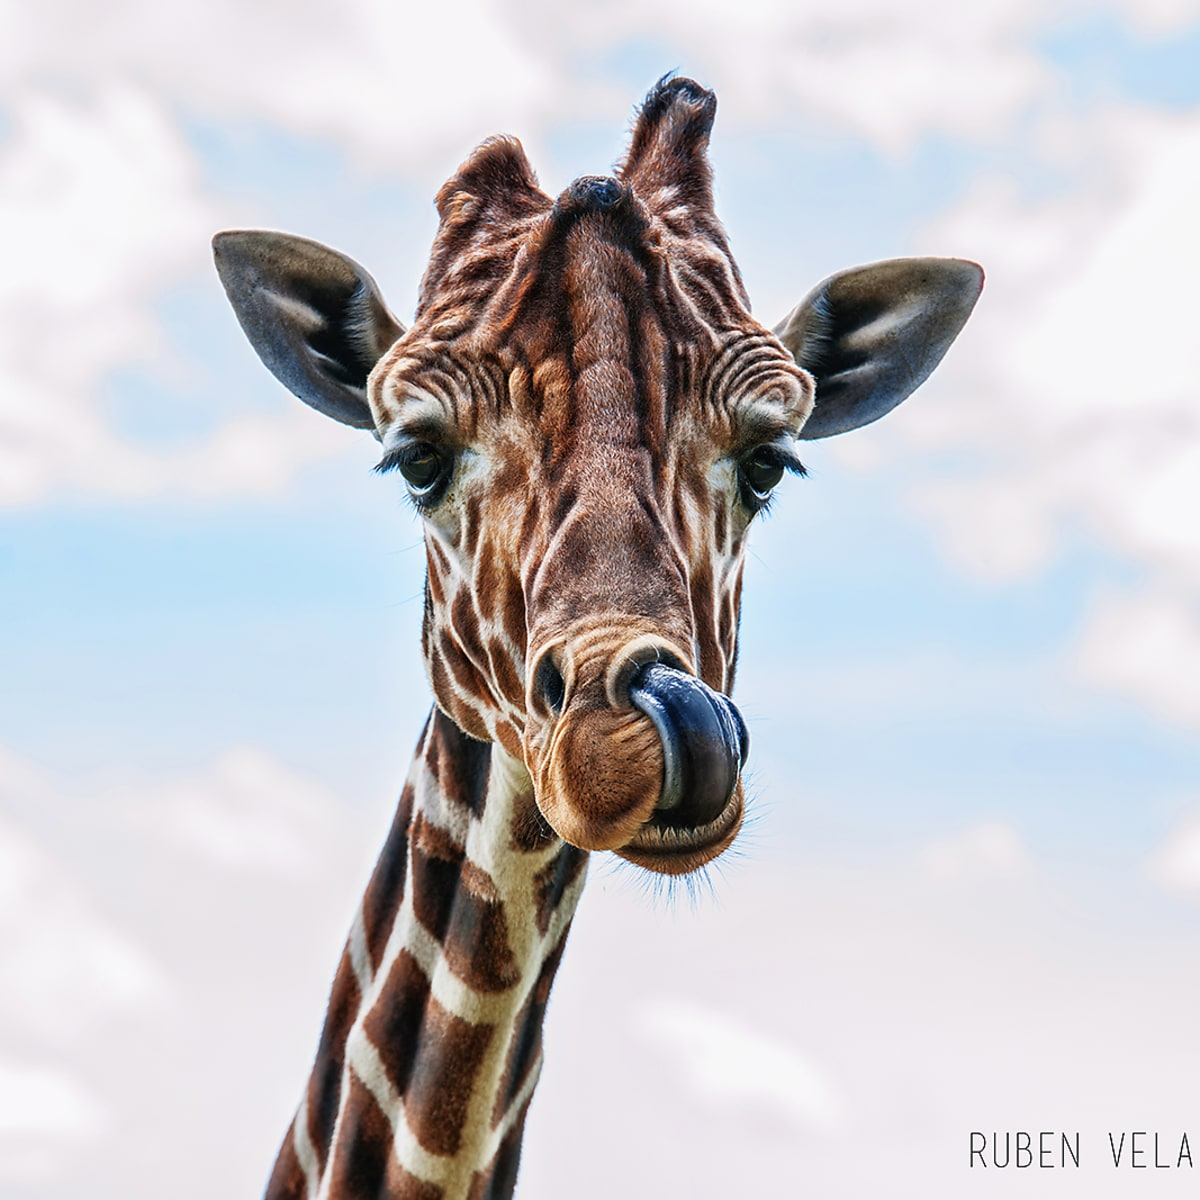Jirafa: (174, 55, 1011, 892)
